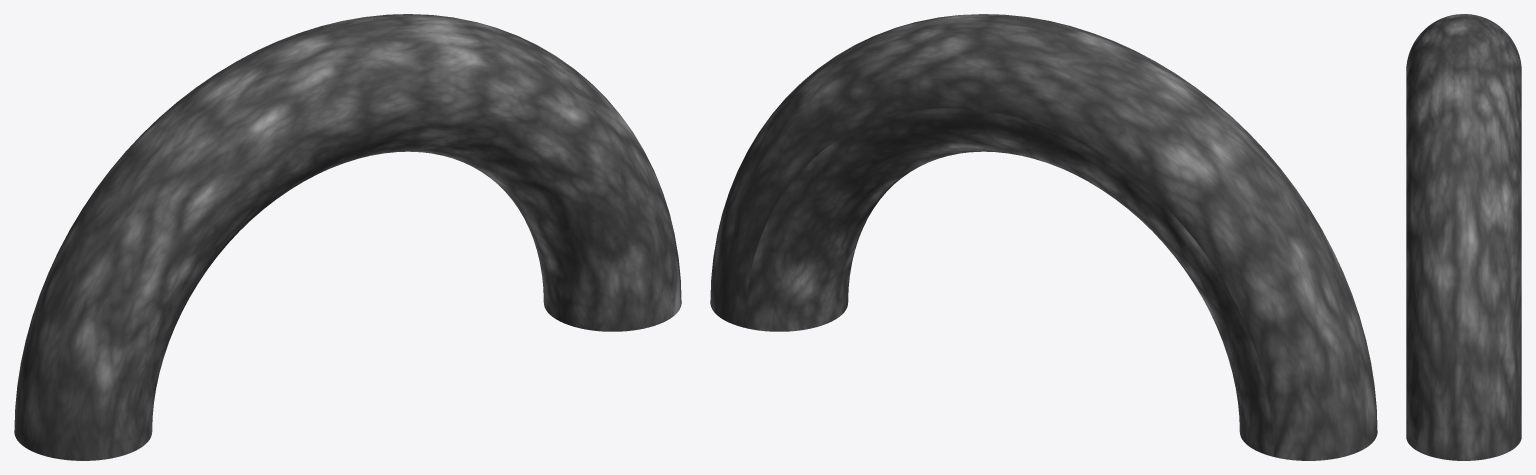
Rendered from ArcoSup.obj.
3 views of the same model, side by side, from view 1: azimuth 30°, elevation 25°; view 2: azimuth 150°, elevation 25°; view 3: azimuth 270°, elevation 25° (orthographic). The views are drawn at different scales.
Parts seen in each view (by area): view 1: Cylinder03; view 2: Cylinder03; view 3: Cylinder03.
Boxes of the visible parts, x1=… form: Cylinder03: x1=14, y1=14, x2=681, y2=460; Cylinder03: x1=710, y1=14, x2=1377, y2=460; Cylinder03: x1=1406, y1=14, x2=1521, y2=460.
Size of the model in its own units: 59.71 by 29.84 by 10.98.
